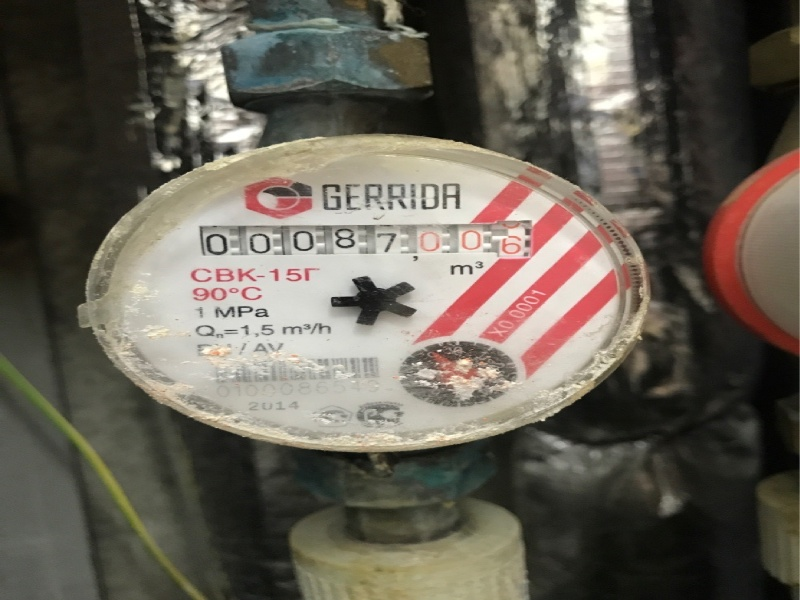meter: (195, 214, 541, 263)
